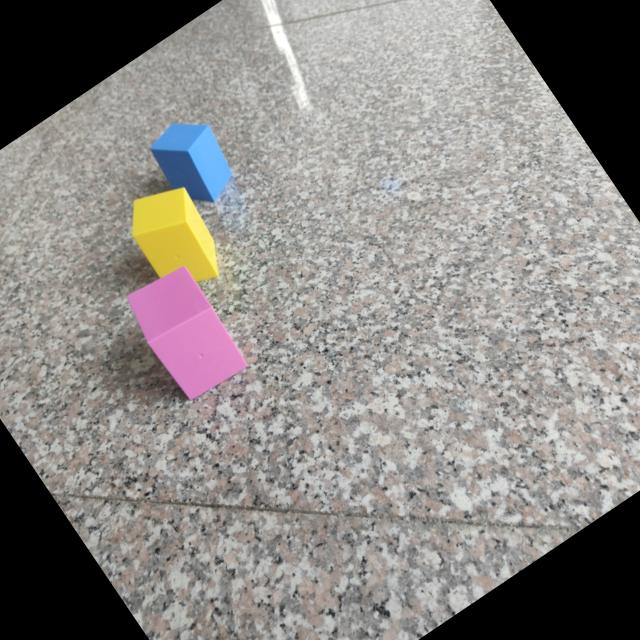blue: (153, 122, 234, 204)
pink: (125, 268, 249, 402)
yellow: (133, 189, 220, 283)
